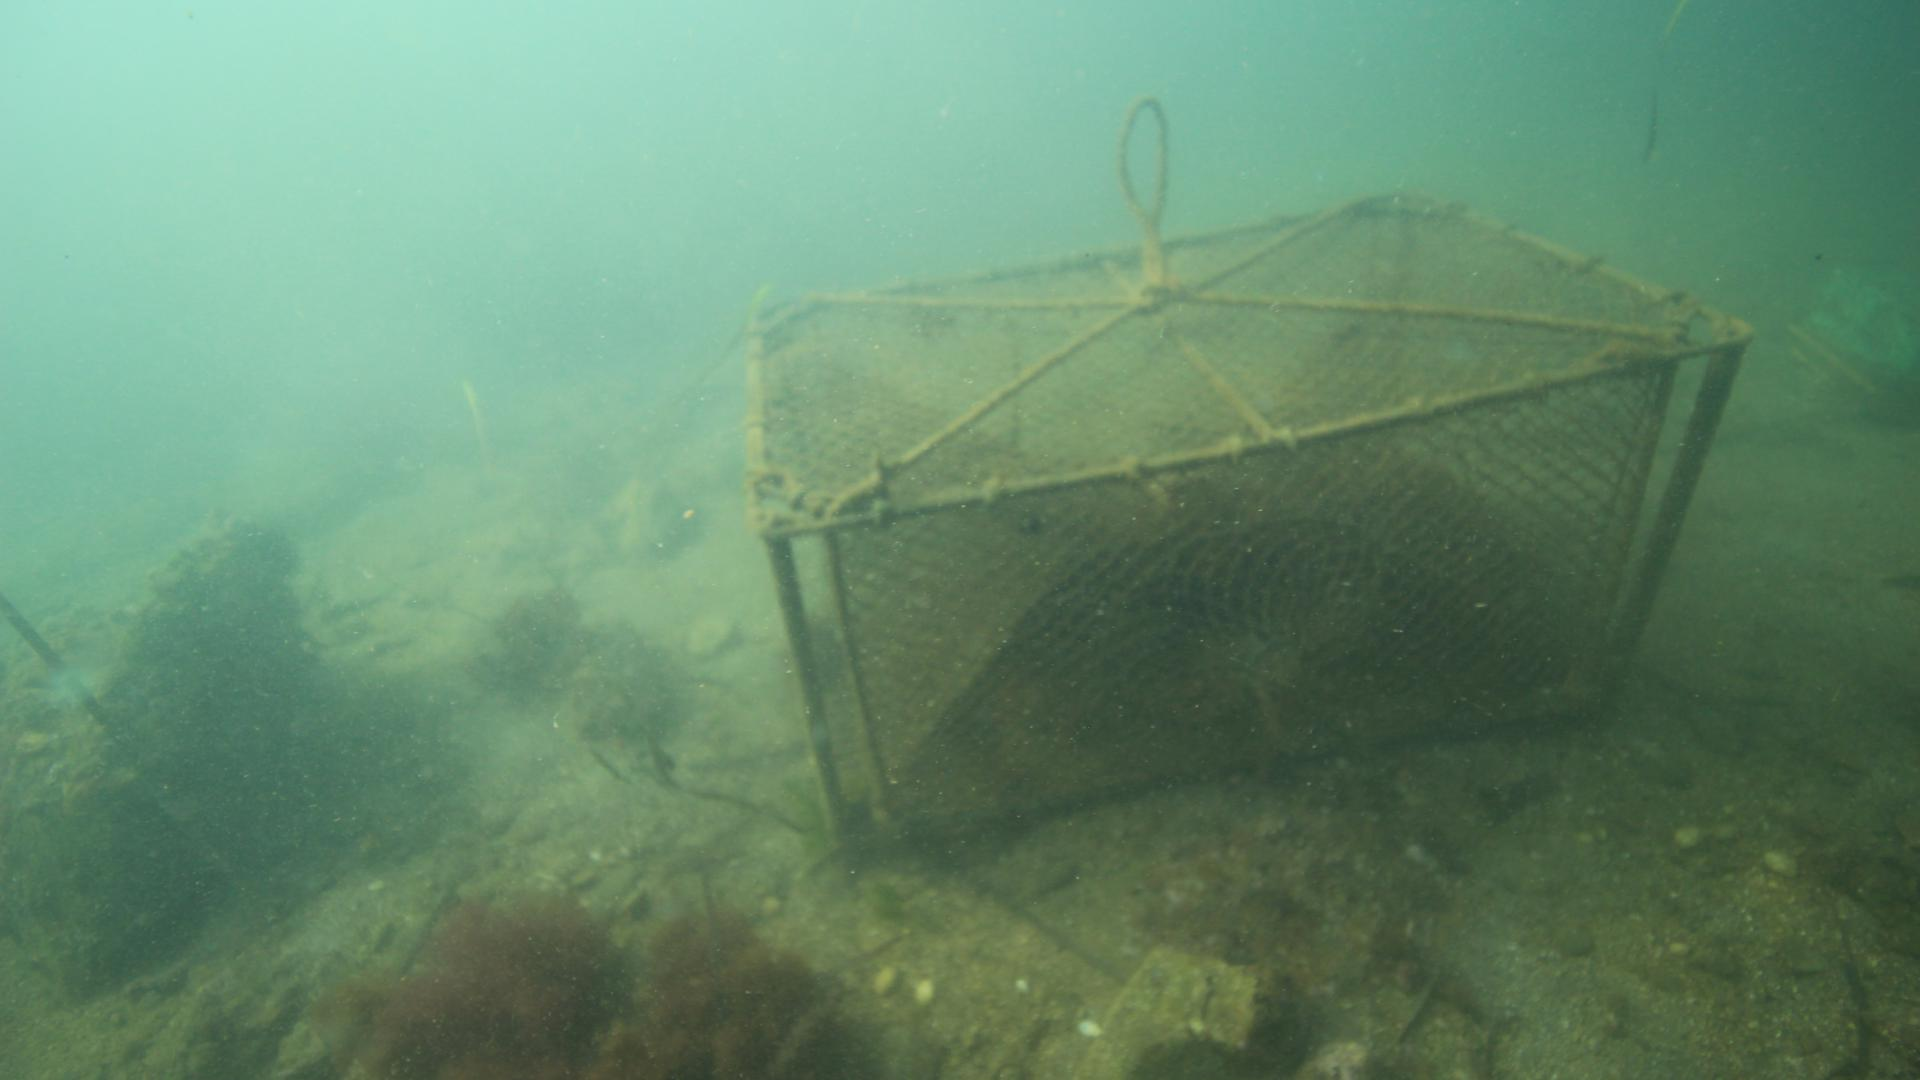bundle of ropes: (1108, 91, 1199, 302)
rectangular fish trap: (731, 179, 1760, 884)
